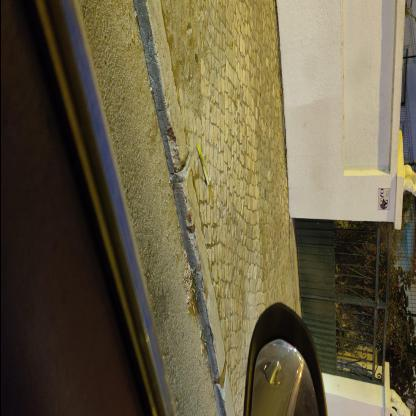karton: (196, 141, 210, 187)
